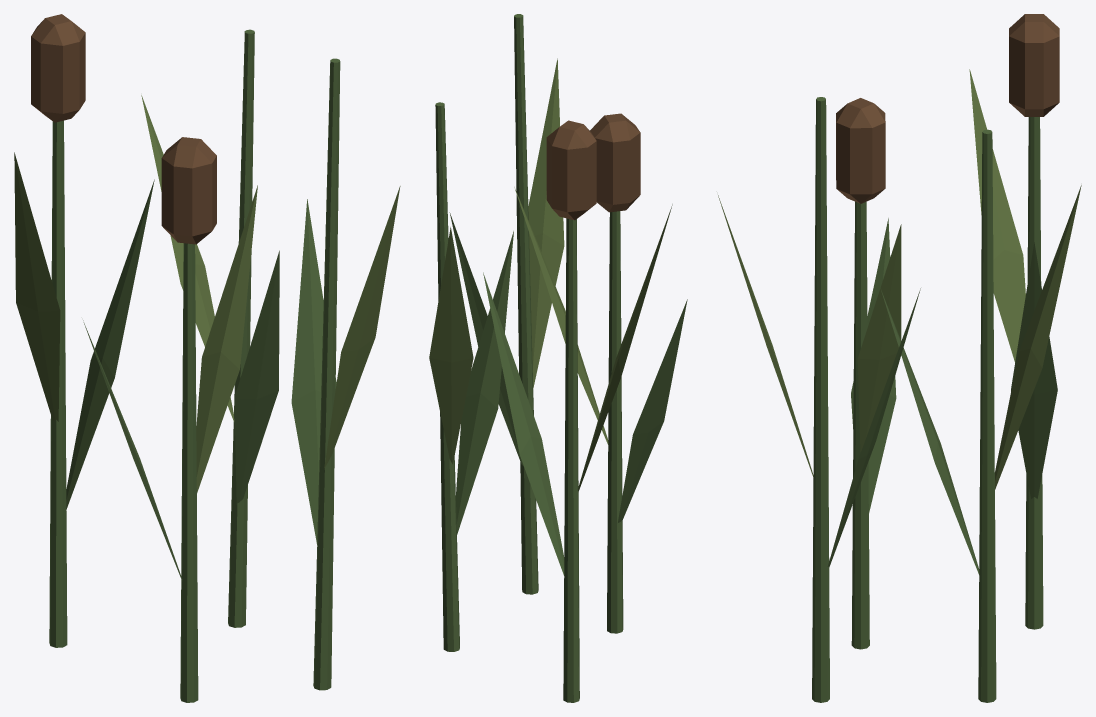
The model's file is reeds_2_summer.glb.
3 views of the same model, side by side, from view 1: azimuth 30°, elevation 25°; view 2: azimuth 150°, elevation 25°; view 3: azimuth 270°, elevation 25° (orthographic). The views are drawn at different scales.
Visible parts, largest first — view 1: reeds_2_summer; view 2: reeds_2_summer; view 3: reeds_2_summer.
Boxes of the visible parts, box(x1,y1,x2,y2) form: reeds_2_summer: box(14, 14, 400, 702); reeds_2_summer: box(429, 14, 687, 702); reeds_2_summer: box(718, 14, 1081, 702).
Size of the model in its own units: 0.8337 by 1.86 by 1.01.
